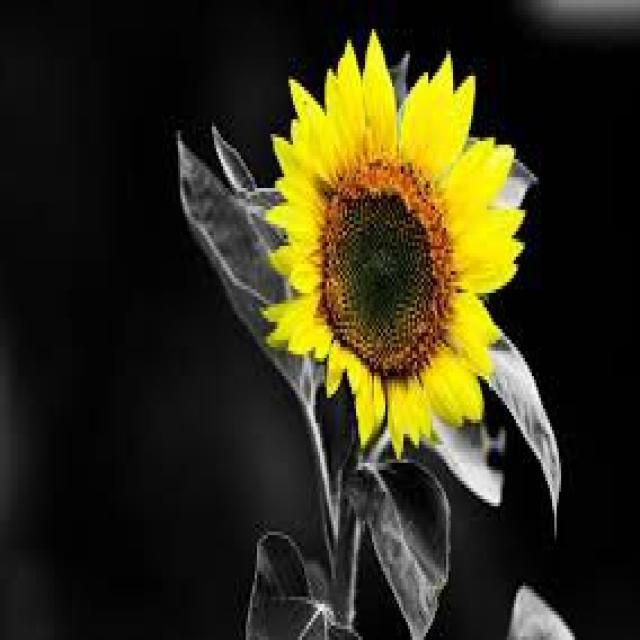sunflower: (261, 26, 528, 455)
